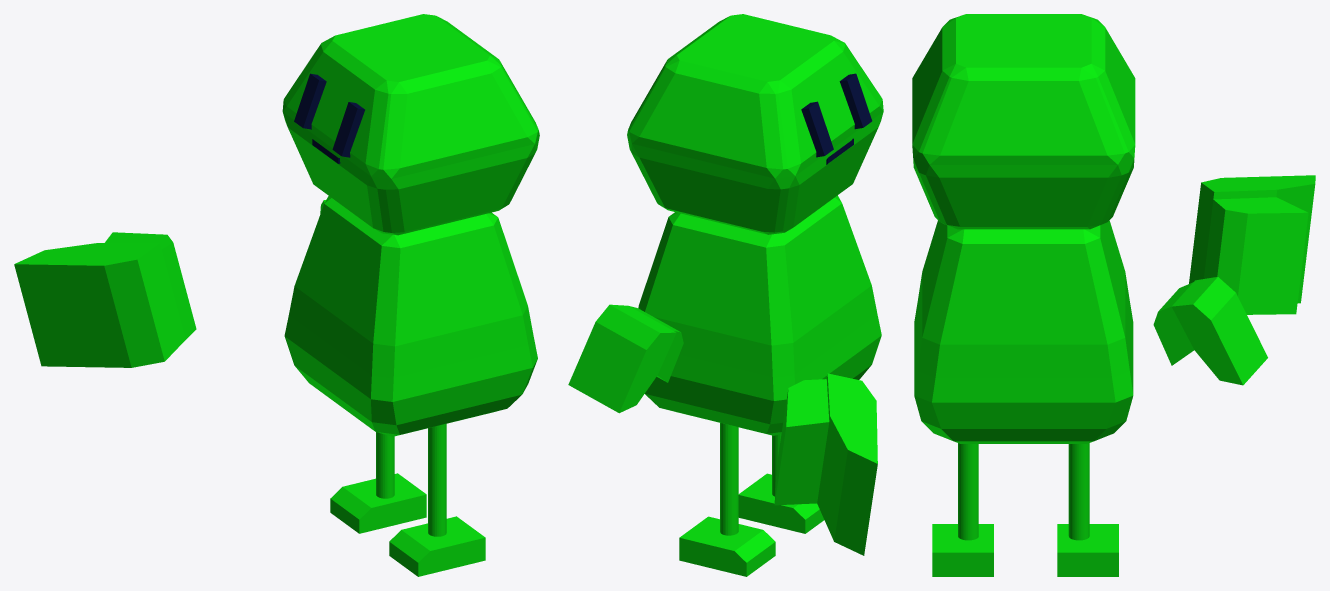
Rendered from player_green_slap3.gltf.
3 renders of one model, left to right at view 1: azimuth 30°, elevation 25°; view 2: azimuth 150°, elevation 25°; view 3: azimuth 270°, elevation 25°, orthographic. The views are drawn at different scales.
Parts seen in each view (by area): view 1: body.007, head.007, hand right.007, foot right.007, foot left.007, leg right.007, leg left.007, Cube.026, Cube.027; view 2: body.007, head.007, hand right.007, hand left.007, foot left.007, foot right.007, leg left.007, Cube.026, Cube.027; view 3: body.007, head.007, hand right.007, hand left.007, foot left.007, foot right.007, leg left.007, leg right.007.
Boxes of the visible parts, x1,y1,x2,y2 form: body.007: [284, 196, 537, 436]; head.007: [282, 14, 539, 235]; hand right.007: [14, 232, 196, 367]; foot right.007: [389, 516, 485, 576]; foot left.007: [330, 473, 426, 533]; leg right.007: [428, 424, 446, 536]; leg left.007: [376, 432, 394, 498]; Cube.026: [294, 73, 326, 129]; Cube.027: [332, 102, 364, 157]; body.007: [638, 195, 881, 435]; head.007: [627, 14, 883, 234]; hand right.007: [774, 373, 877, 555]; hand left.007: [568, 304, 683, 413]; foot left.007: [679, 516, 775, 576]; foot right.007: [738, 473, 824, 533]; leg left.007: [720, 423, 738, 535]; Cube.026: [801, 101, 833, 157]; Cube.027: [839, 73, 872, 129]; body.007: [914, 220, 1133, 443]; head.007: [912, 14, 1135, 229]; hand right.007: [1189, 175, 1315, 314]; hand left.007: [1153, 277, 1267, 385]; foot left.007: [1057, 524, 1118, 576]; foot right.007: [932, 524, 993, 576]; leg left.007: [1068, 443, 1089, 540]; leg right.007: [958, 443, 978, 540].
Size of the model in its own units: 3.52 by 4.76 by 3.35.
